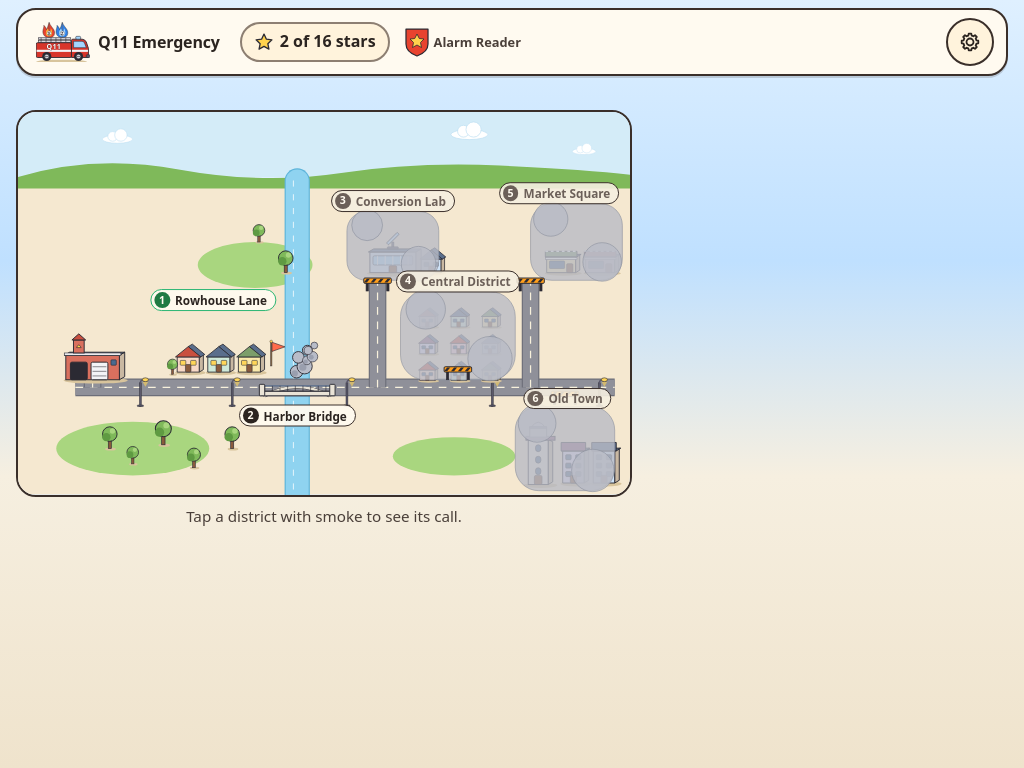
Test case: CityScreen — districts › a solved district offers "Play again" and its badge name; Close returns focus to the district
Click the button with test id "mission-1".
click(213, 345)  # box [163,311,263,380]
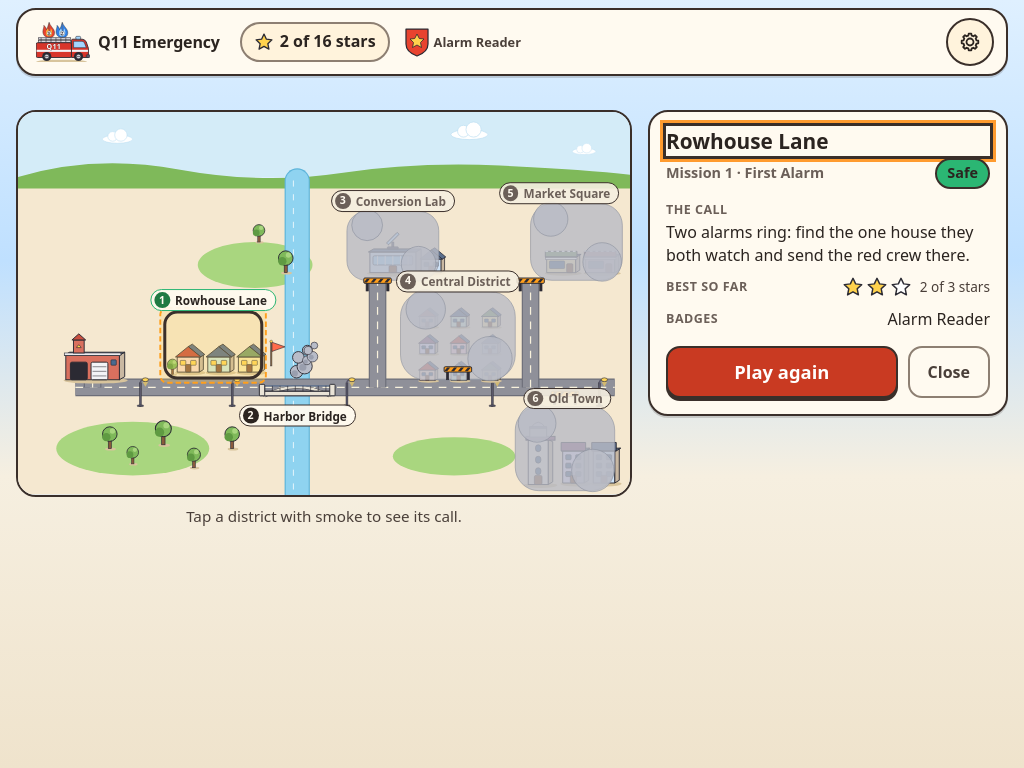
Check: the button with test id "dispatch-go" reads "Play again", box [666,346,898,398]
Check: the text "Alarm Reader" in the row of "Badges" is shown, box [888,308,990,330]
Check: the picture named "2 of 3 stars" is shown, box [842,276,912,298]
Click the button with test id "panel-close".
click(949, 372)  # box [908,346,990,398]
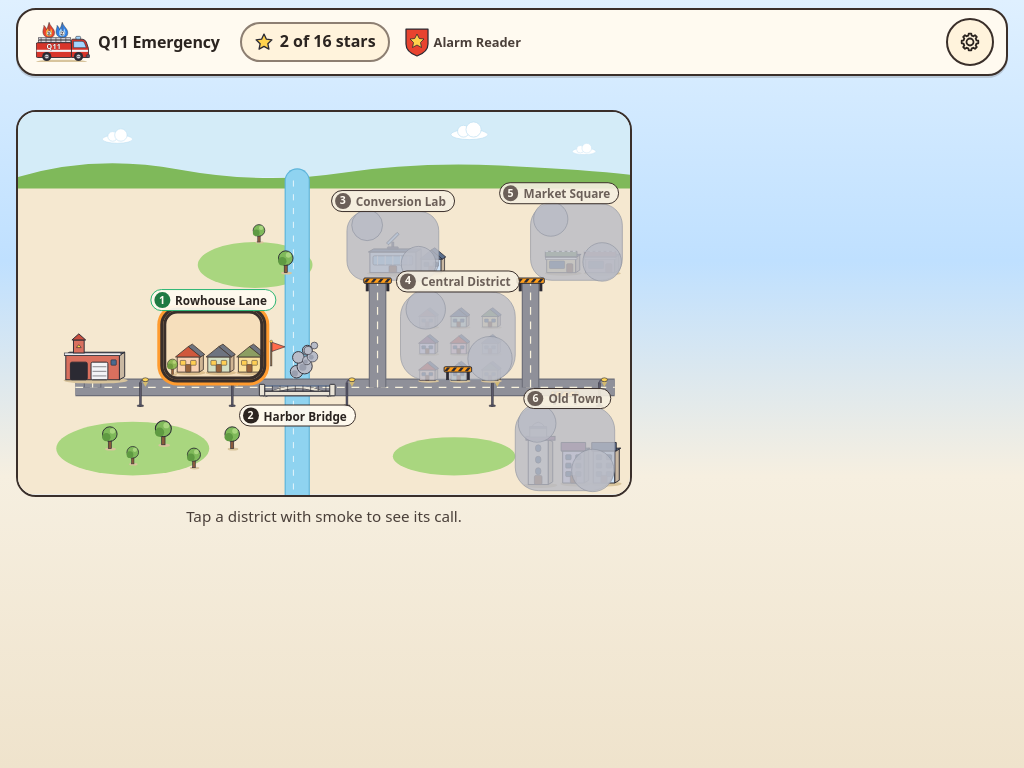
Check: the element with test id "city-panel" is gone
